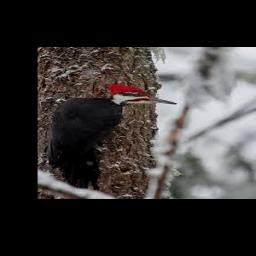Woodpecker: (53, 83, 177, 189)
